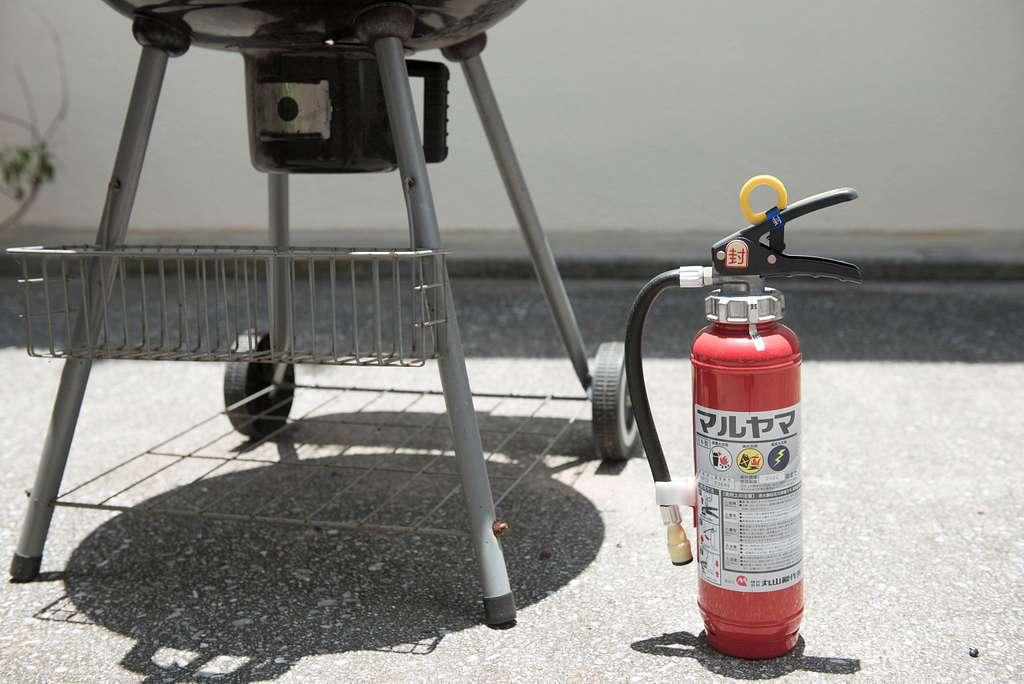Fire Extinguisher: (610, 164, 874, 658)
